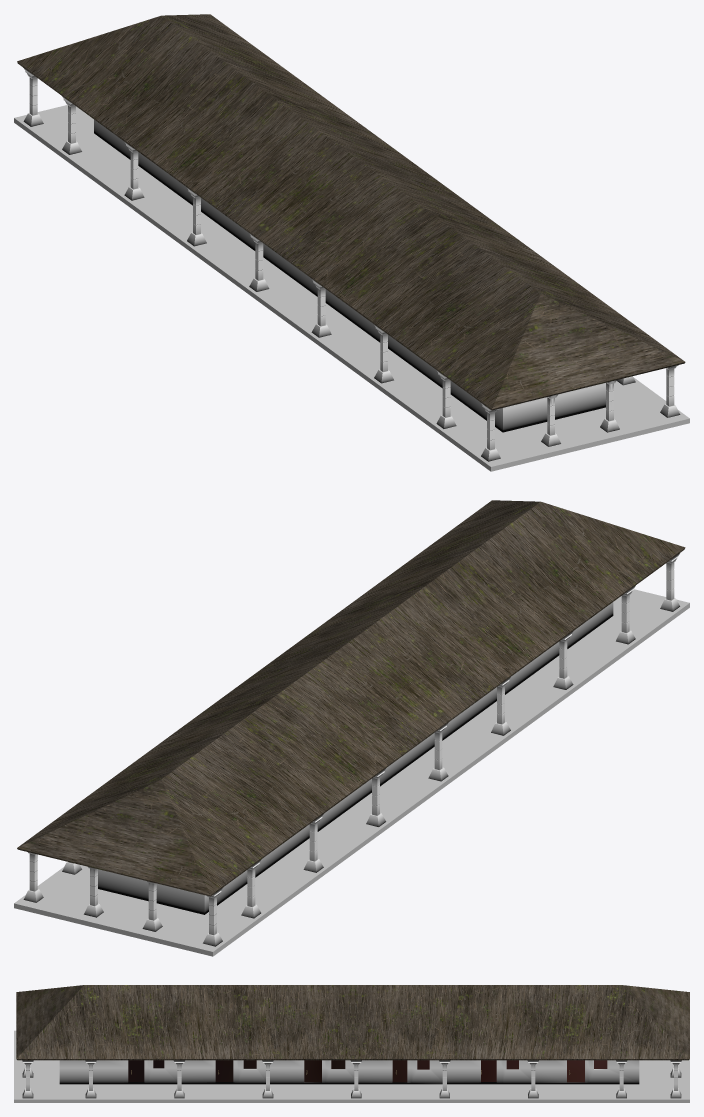
The model's file is CasasIndios.fbx.
3 views of the same model, one above another, from view 1: azimuth 30°, elevation 25°; view 2: azimuth 150°, elevation 25°; view 3: azimuth 270°, elevation 25° (orthographic). The views are drawn at different scales.
Parts seen in each view (by area): view 1: Cube.003, Cube.005, Cube.004, Cube, Cube.008, Cube.001; view 2: Cube.003, Cube.005, Cube.004, Cube, Cube.006, Cube.009; view 3: Cube.003, Cube.005, Cube.004, Cube, Cube.008, Cube.006.
Boxes of the visible parts, left/top/right/bottom form: Cube.003: left=17, top=14, right=685, bottom=410; Cube.005: left=14, top=105, right=689, bottom=471; Cube.004: left=94, top=119, right=605, bottom=432; Cube: left=62, top=96, right=635, bottom=428; Cube.008: left=481, top=365, right=680, bottom=461; Cube.001: left=541, top=380, right=619, bottom=446; Cube.003: left=17, top=500, right=685, bottom=896; Cube.005: left=14, top=589, right=689, bottom=956; Cube.004: left=98, top=602, right=613, bottom=914; Cube: left=62, top=585, right=635, bottom=918; Cube.006: left=23, top=852, right=222, bottom=946; Cube.009: left=84, top=867, right=162, bottom=931; Cube.003: left=16, top=985, right=689, bottom=1060; Cube.005: left=14, top=1030, right=689, bottom=1102; Cube.004: left=59, top=1060, right=639, bottom=1084; Cube: left=85, top=1060, right=627, bottom=1098; Cube.008: left=22, top=1060, right=33, bottom=1098; Cube.006: left=670, top=1060, right=681, bottom=1098.
Size of the model in its own units: 900 by 509 by 3736.
